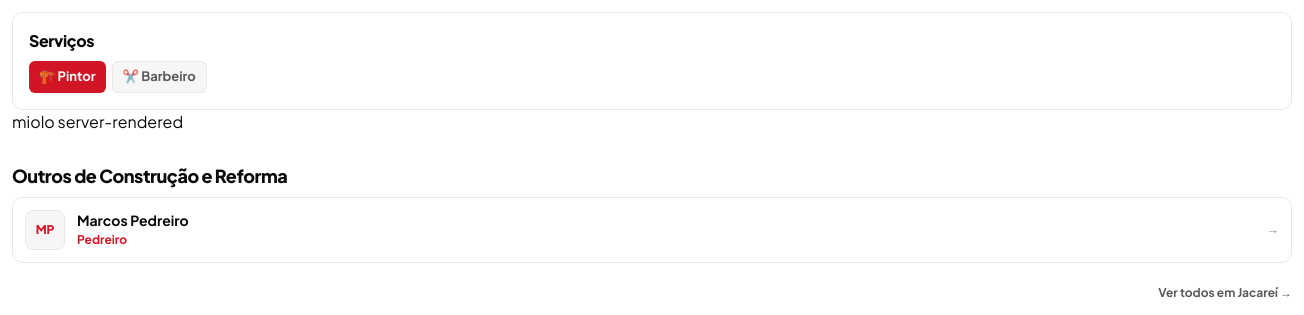
Test: PerfilInterativo › troca a seção 'Outros' ao selecionar um serviço de outra categoria
The width and height of the screenshot is (1304, 315).
Step 1. Click the button "✂️ Barbeiro" → (159, 77), box [112,61,207,92]
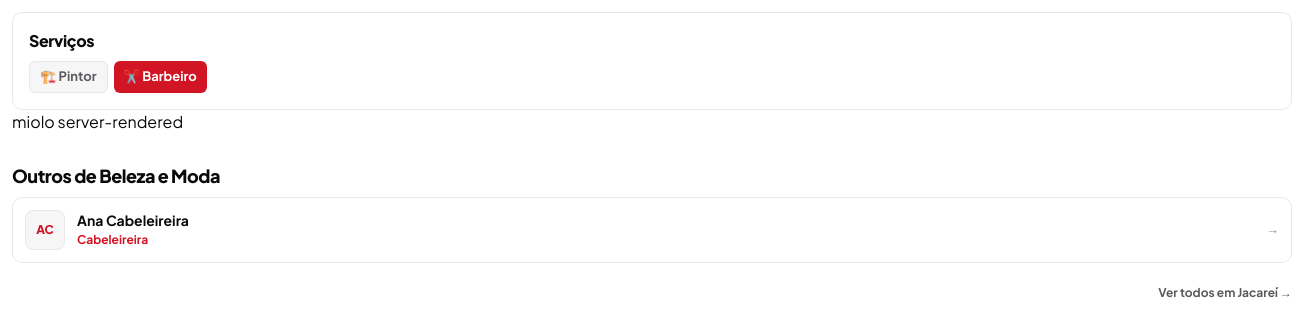
Result: the heading "Outros de Beleza e Moda" is shown at [12,164,220,186]
Result: the text "Ana Cabeleireira" is shown at [77,211,189,229]
Result: the link "Marcos Pedreiro" is gone
